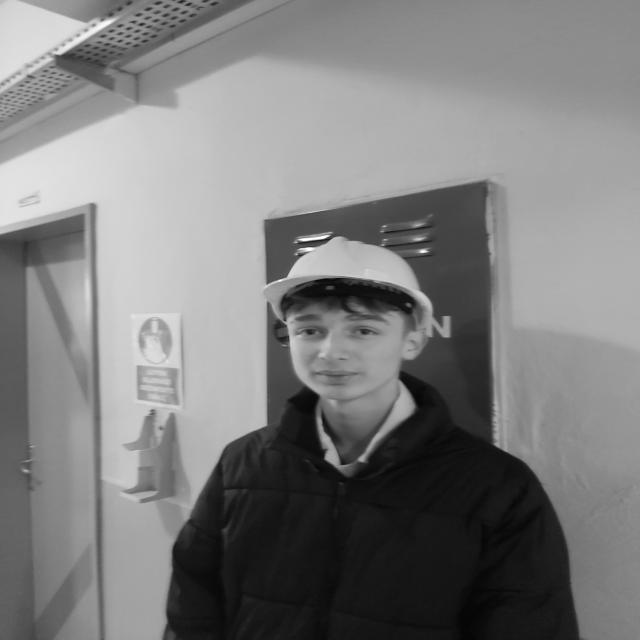safety_helmet: (263, 239, 431, 333)
